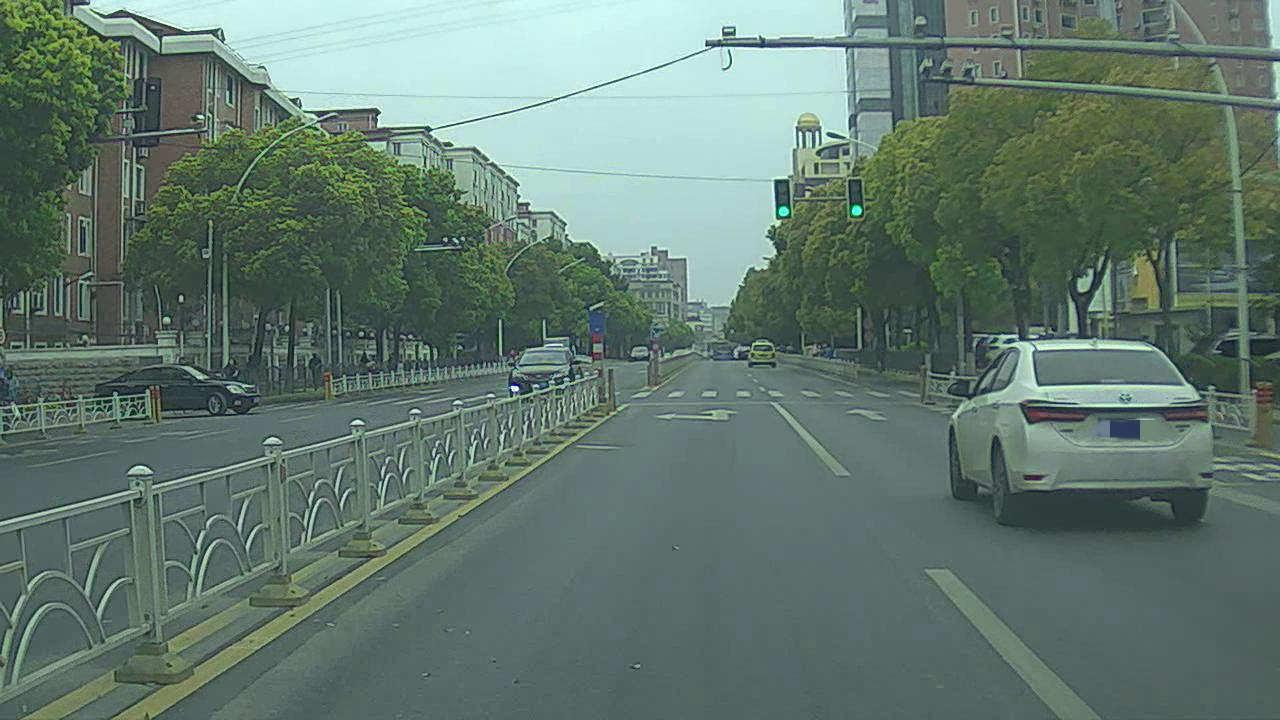traffic_light: (772, 176, 793, 223), (845, 176, 866, 220)
